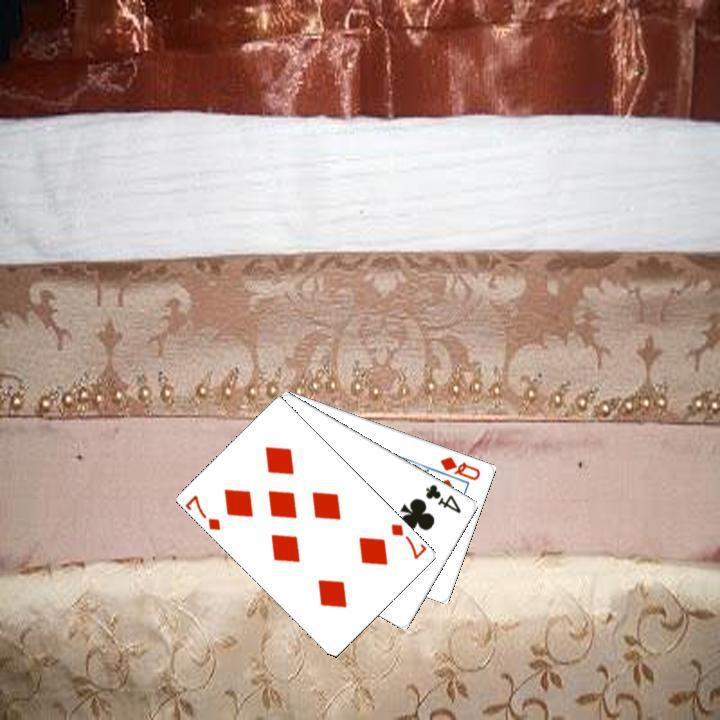4: (421, 480, 463, 515)
7: (387, 519, 428, 561), (182, 490, 223, 532)
Q: (436, 452, 483, 482)
